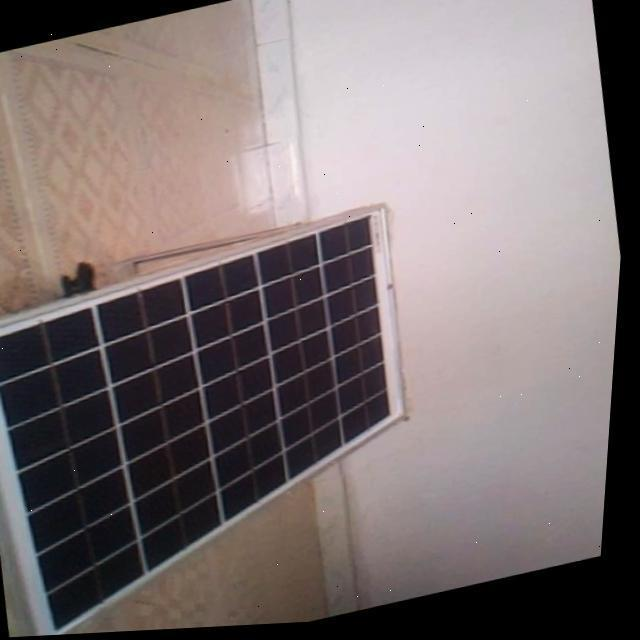Normal Solar Panel: (0, 203, 451, 640)
